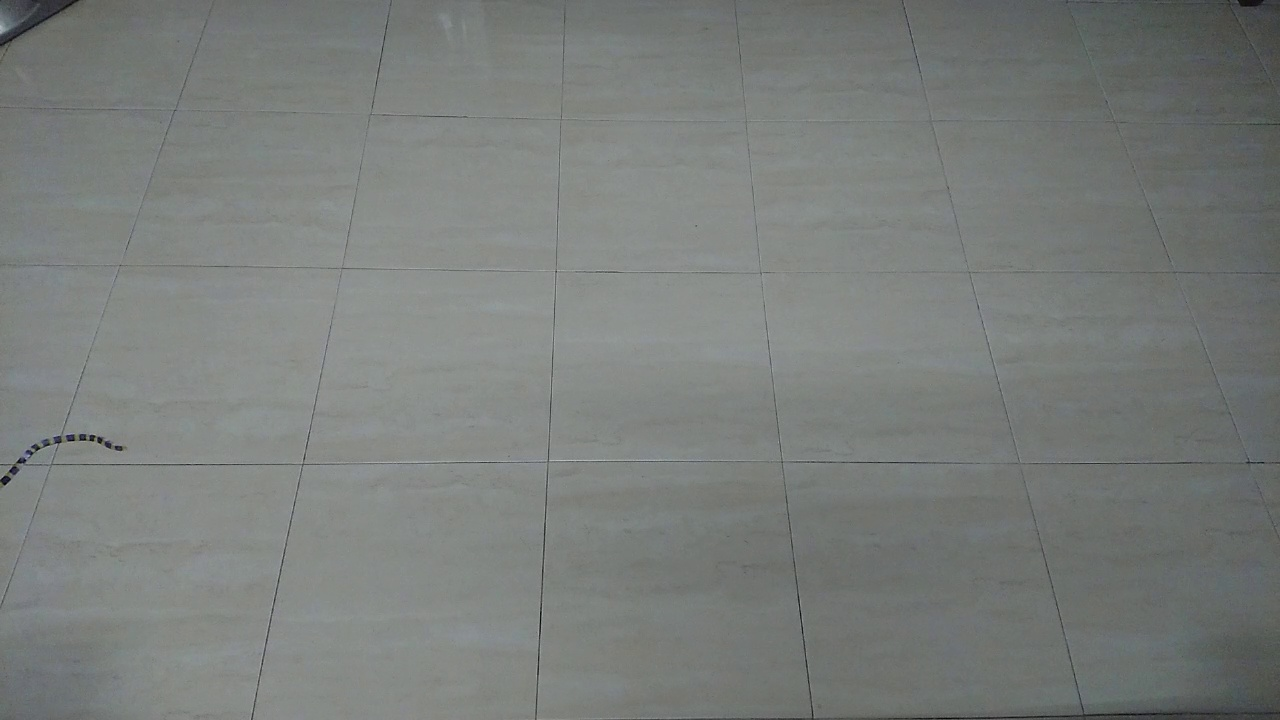snake: (1, 426, 139, 504)
